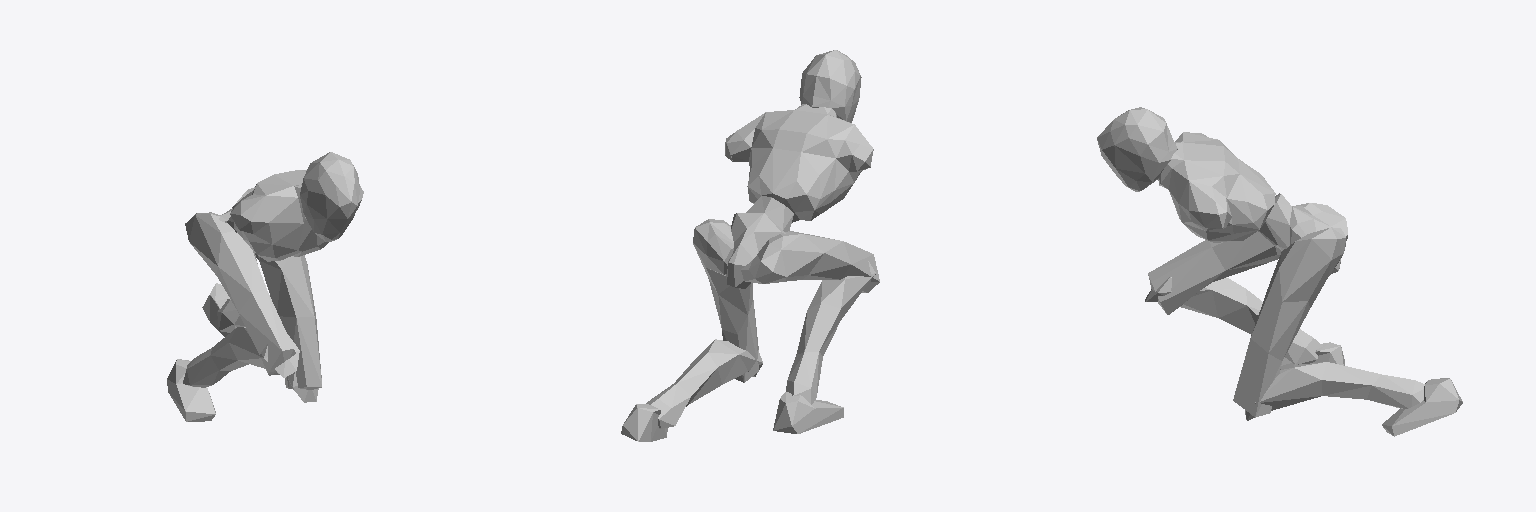
File: filth19.obj
3 renders of one model, left to right at view 1: azimuth 30°, elevation 25°; view 2: azimuth 150°, elevation 25°; view 3: azimuth 270°, elevation 25°, orthographic.
Parts seen in each view (by area): view 1: Melee_Husk; view 2: Melee_Husk; view 3: Melee_Husk.
Boxes of the visible parts, box(x1,y1,x2,y2) form: Melee_Husk: box(167, 152, 363, 421); Melee_Husk: box(621, 50, 879, 441); Melee_Husk: box(1097, 107, 1462, 436).
Size of the model in its own units: 22.17 by 43.64 by 48.05.